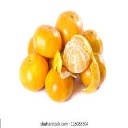orange: (19, 51, 51, 95)
